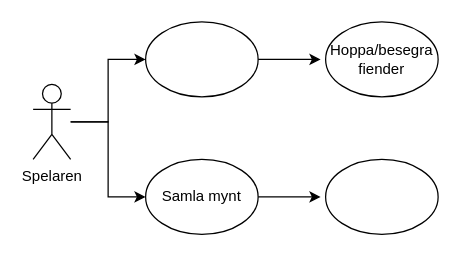
This 460x256 diagram has some shape labels left out. Here are the shapes that lost their labels. From the top down, the centre of each, then its label:
At (201,59): "Flytta på spelkaraktär".
At (381,196): "Klara nivå".
